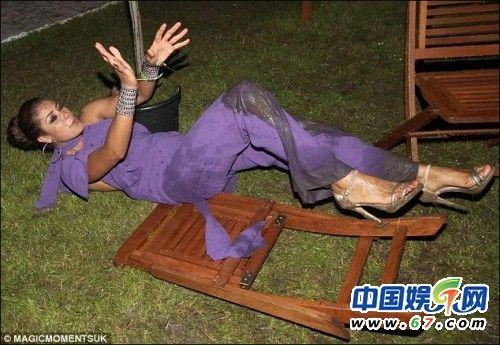fall: (11, 40, 495, 233)
